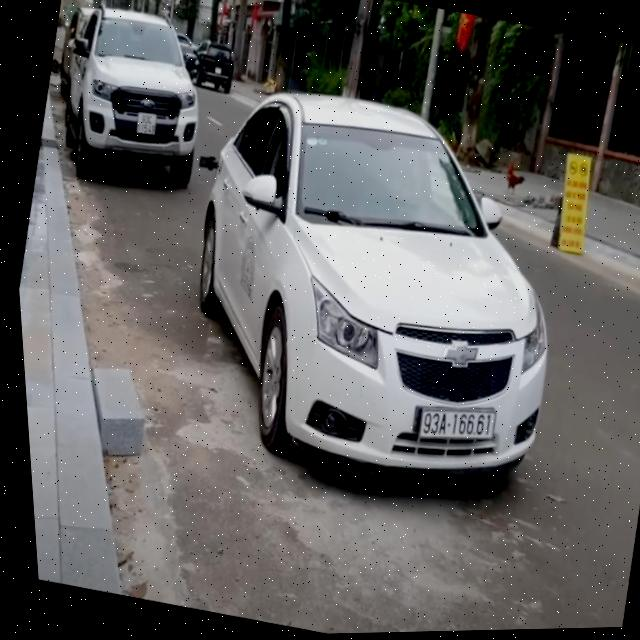car: (133, 62, 604, 524), (35, 0, 227, 203), (183, 36, 245, 98)
plate: (410, 392, 504, 456)
